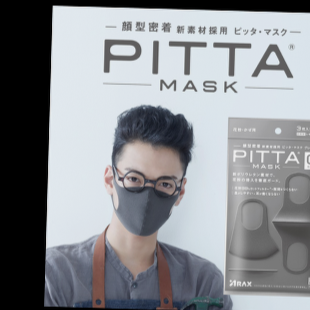with_mask: (113, 165, 183, 236)
